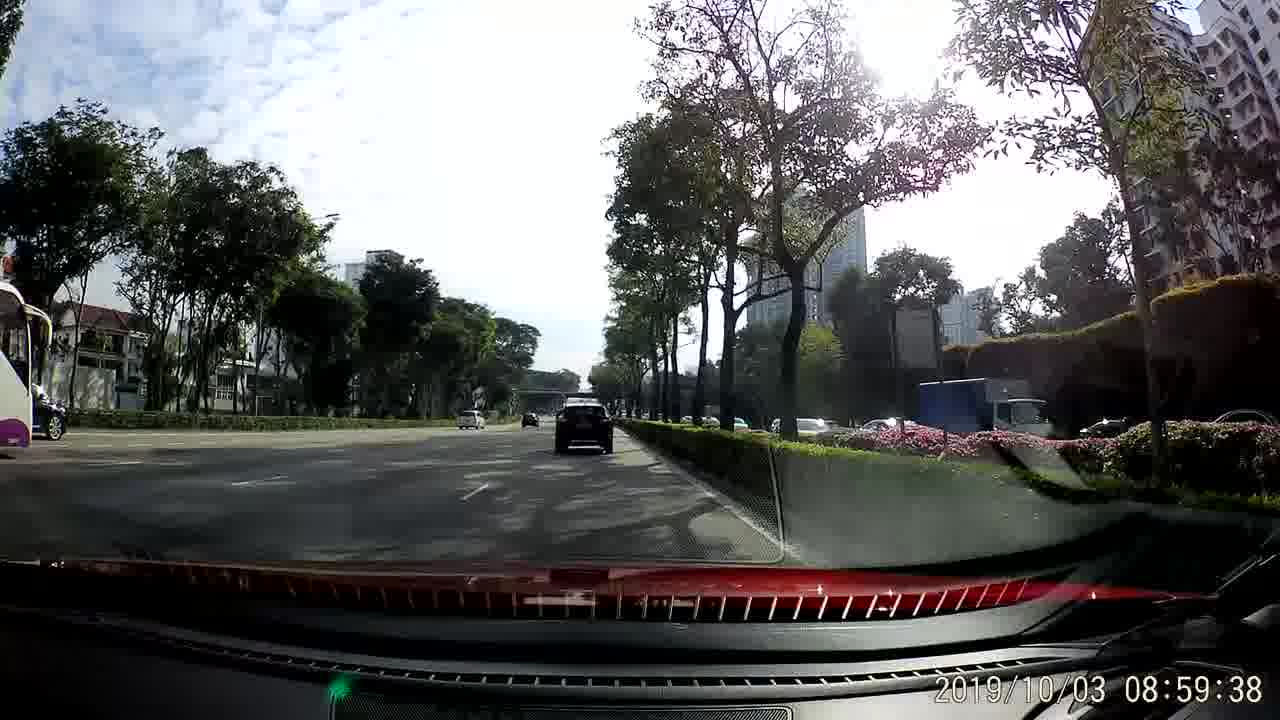bus: (1, 272, 54, 462)
car: (555, 393, 615, 454), (32, 379, 64, 440), (1079, 416, 1144, 443), (453, 407, 489, 431), (519, 410, 540, 428)
